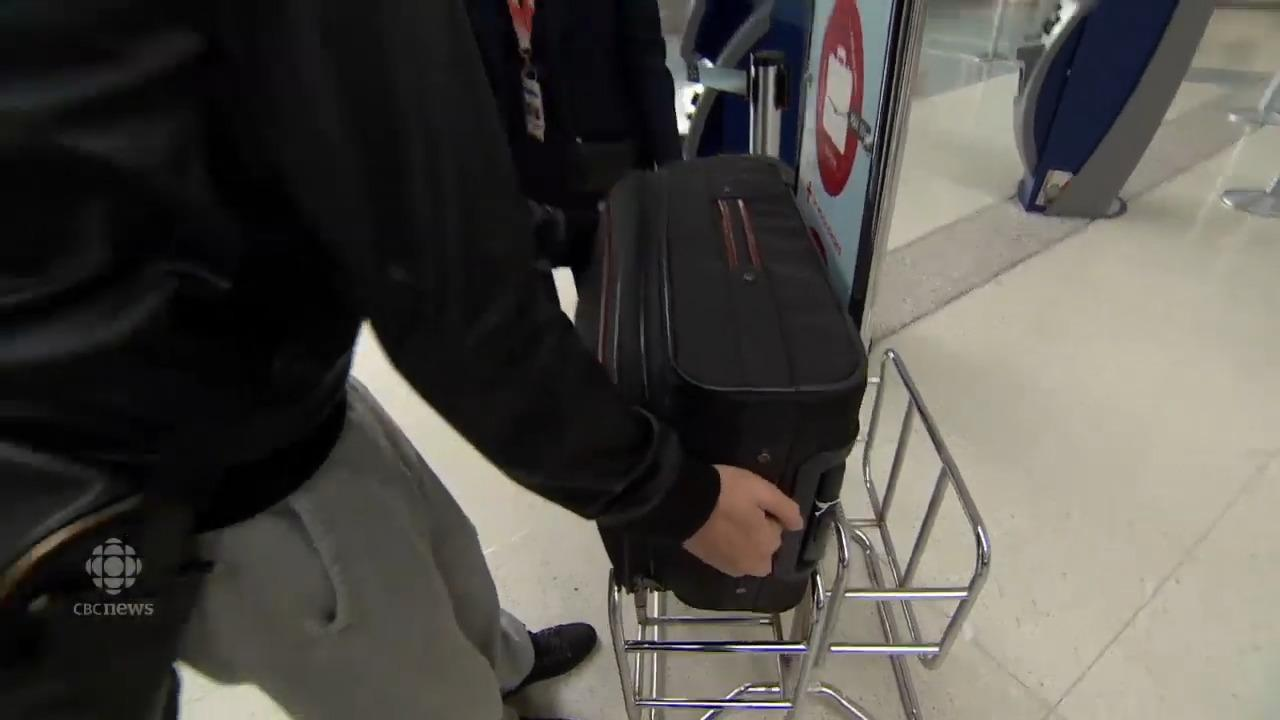luggage: (584, 143, 871, 617), (0, 440, 201, 720)
